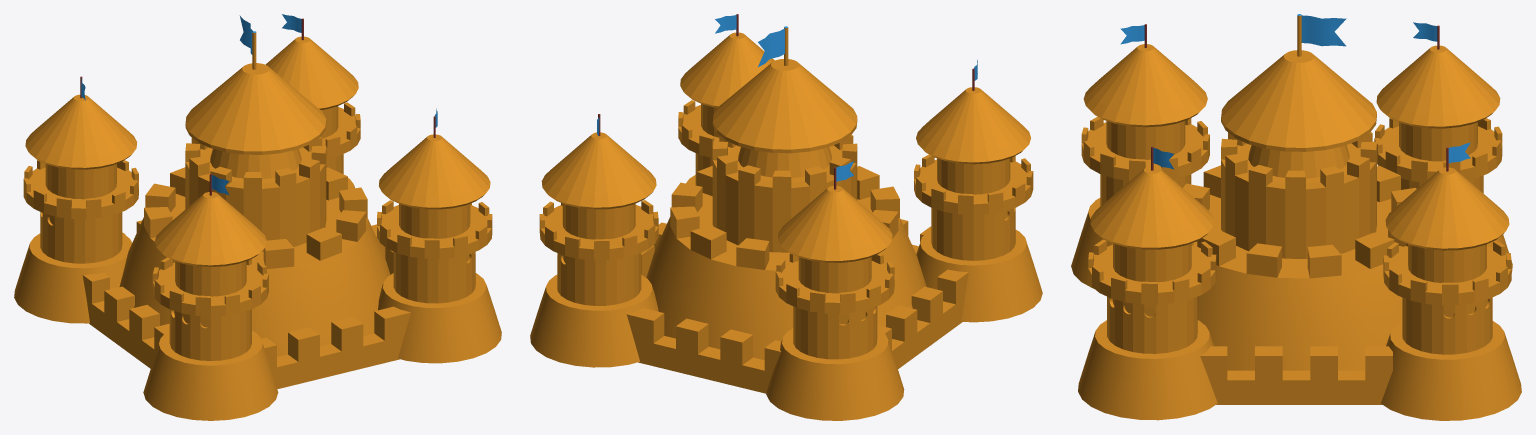
File: Chateau de sable.fbx
The picture shows the model from 3 angles, left to right: view 1: azimuth 30°, elevation 25°; view 2: azimuth 150°, elevation 25°; view 3: azimuth 270°, elevation 25°; orthographic projection. The views are drawn at different scales.
Parts seen in each view (by area): view 1: Cone006; view 2: Cone006; view 3: Cone006.
Part boxes in pixels (x1,y1,x2,y2): Cone006: [14, 14, 501, 420]; Cone006: [530, 14, 1042, 420]; Cone006: [1071, 14, 1521, 420].
Bounding box in the file's own units: 48.28 × 37.9 × 49.36.
